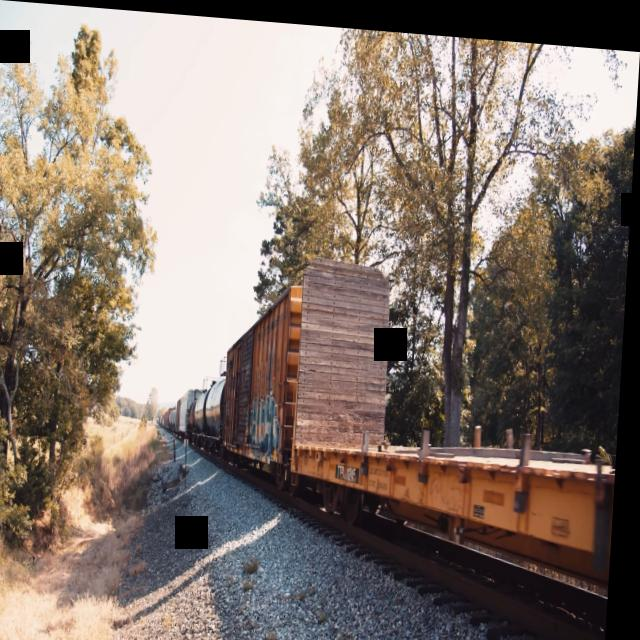boxcar: (227, 270, 308, 491)
flatcar_bulkhead: (286, 241, 630, 617)
tank: (207, 361, 235, 456)
